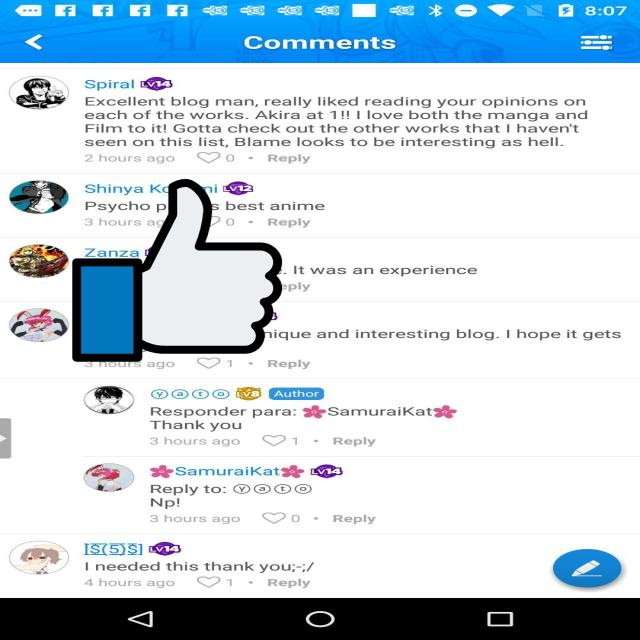privacy zuckering: (72, 175, 282, 366)
